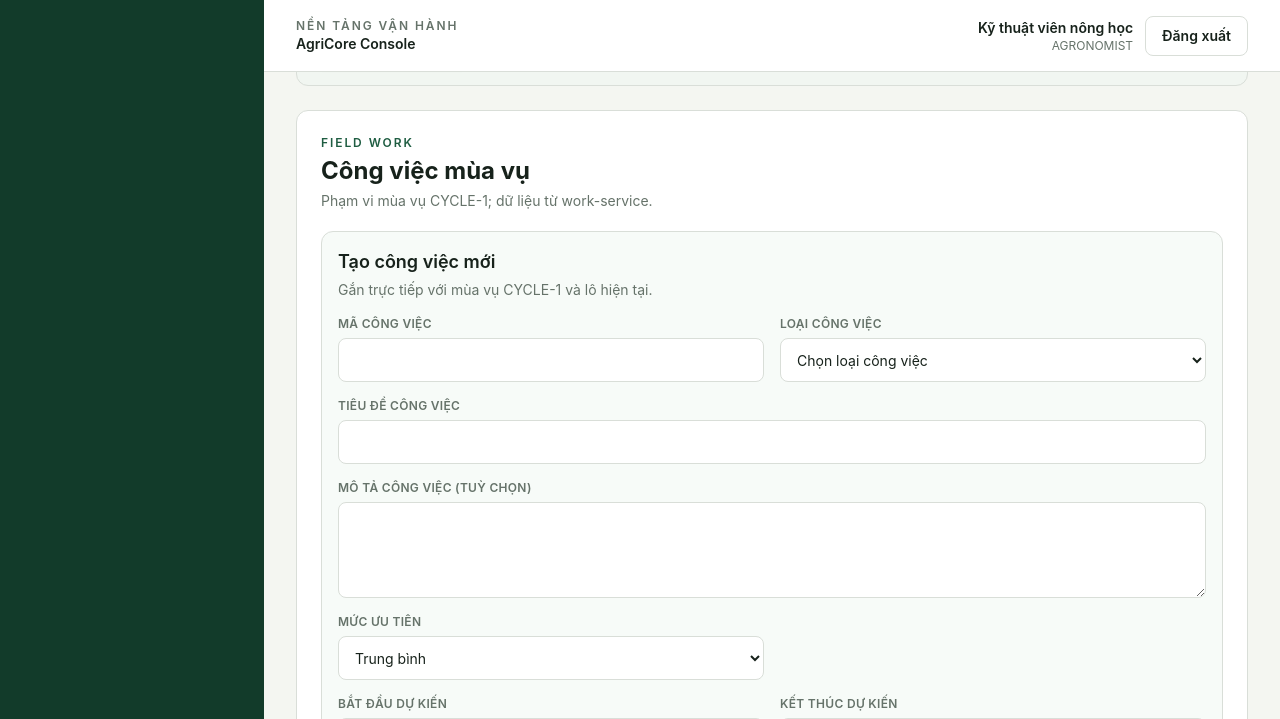
Scenario: work-task creation access loss › removes the local success message when list revalidation loses access
The width and height of the screenshot is (1280, 719).
(page scrolled)
Type "TASK-ACCESS-LOSS" into the field labelled "Mã công việc".
click(551, 360); type("TASK-ACCESS-LOSS")  # box [338,338,764,382]
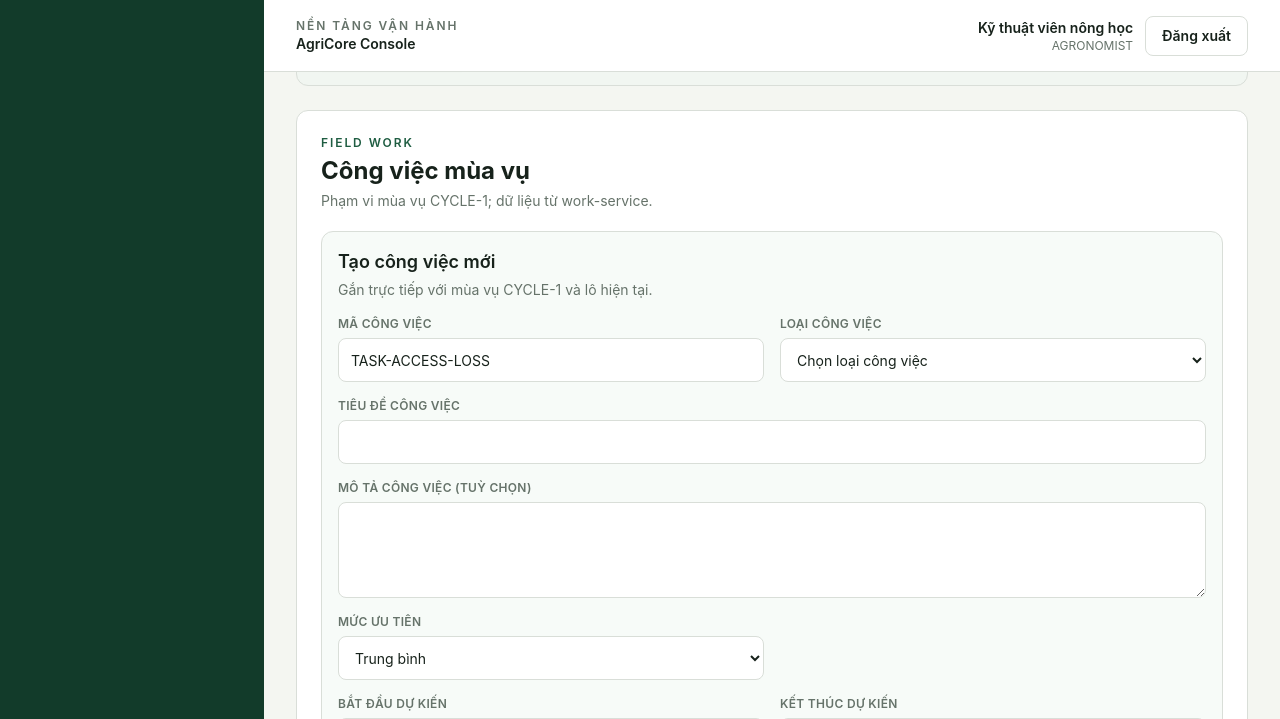
Select "Gieo trồng" in the dropdown labelled "Loại công việc" at (993, 360), box [780,338,1206,382]
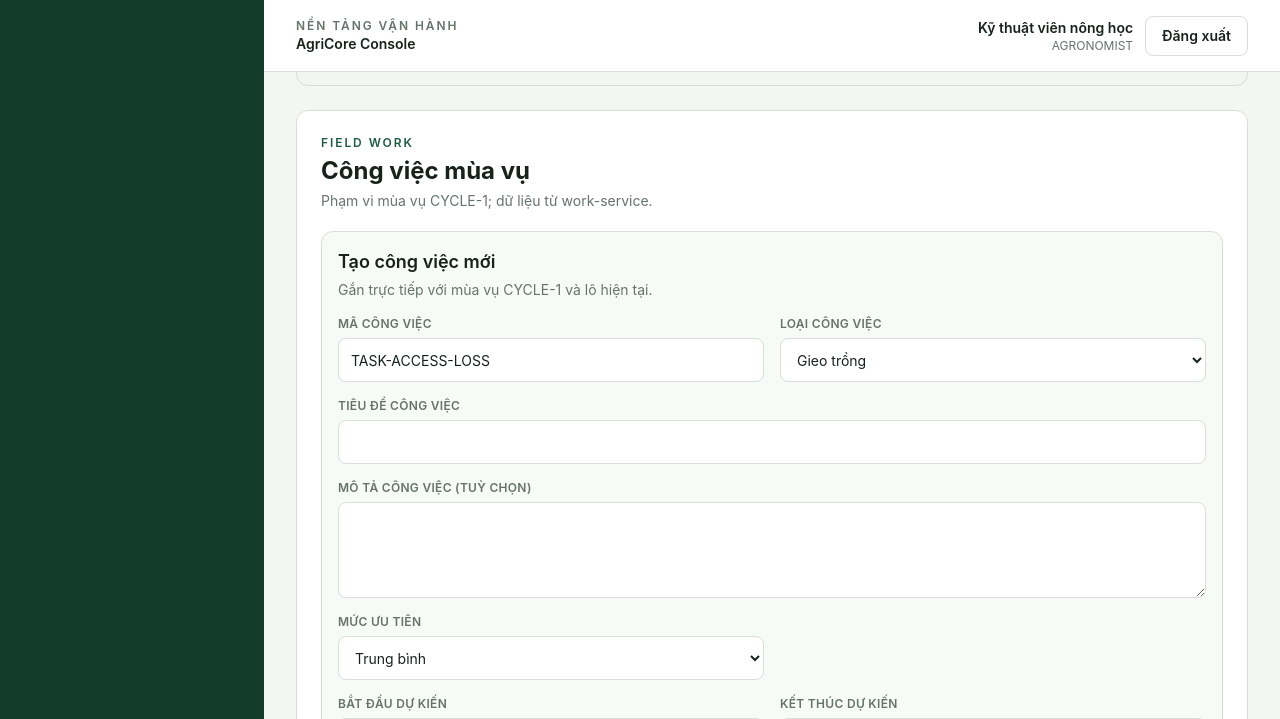
Type "Gieo trước khi mất quyền" into the field labelled "Tiêu đề công việc".
click(772, 442); type("Gieo trước khi mất quyền")  # box [338,420,1206,464]
(page scrolled)
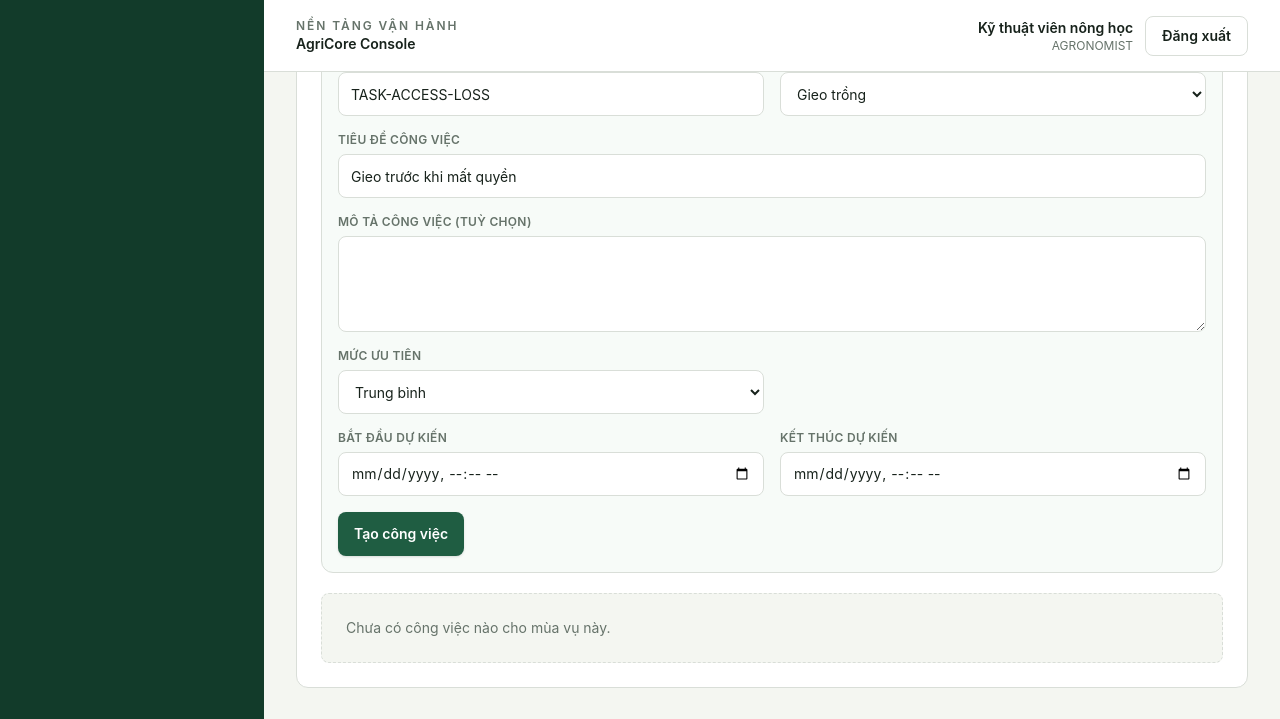
Click the button "Tạo công việc".
click(401, 534)  # box [338,512,464,556]
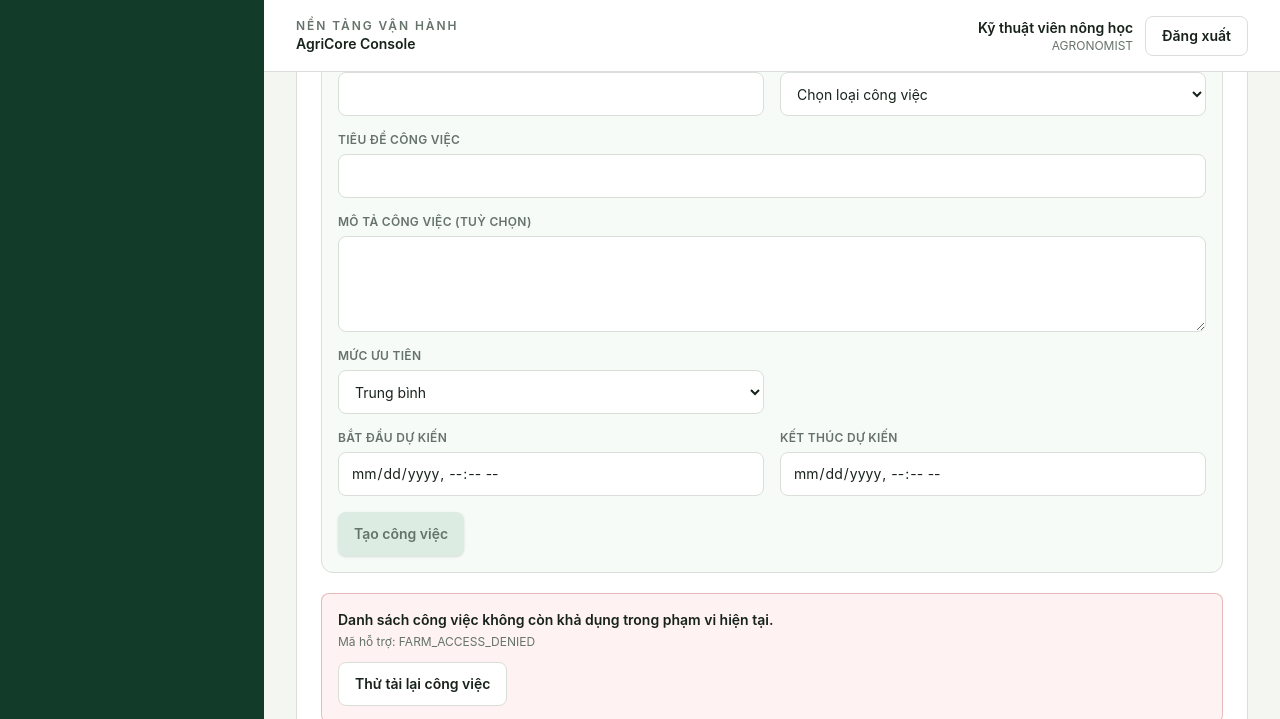
Expected: the text "TASK-ACCESS-LOSS" is not shown
Now the message named "Không thể tải công việc" shows "FARM_ACCESS_DENIED", box [399,634,535,649]
Click the button "Thử tải lại công việc".
click(423, 684)  # box [338,662,507,706]
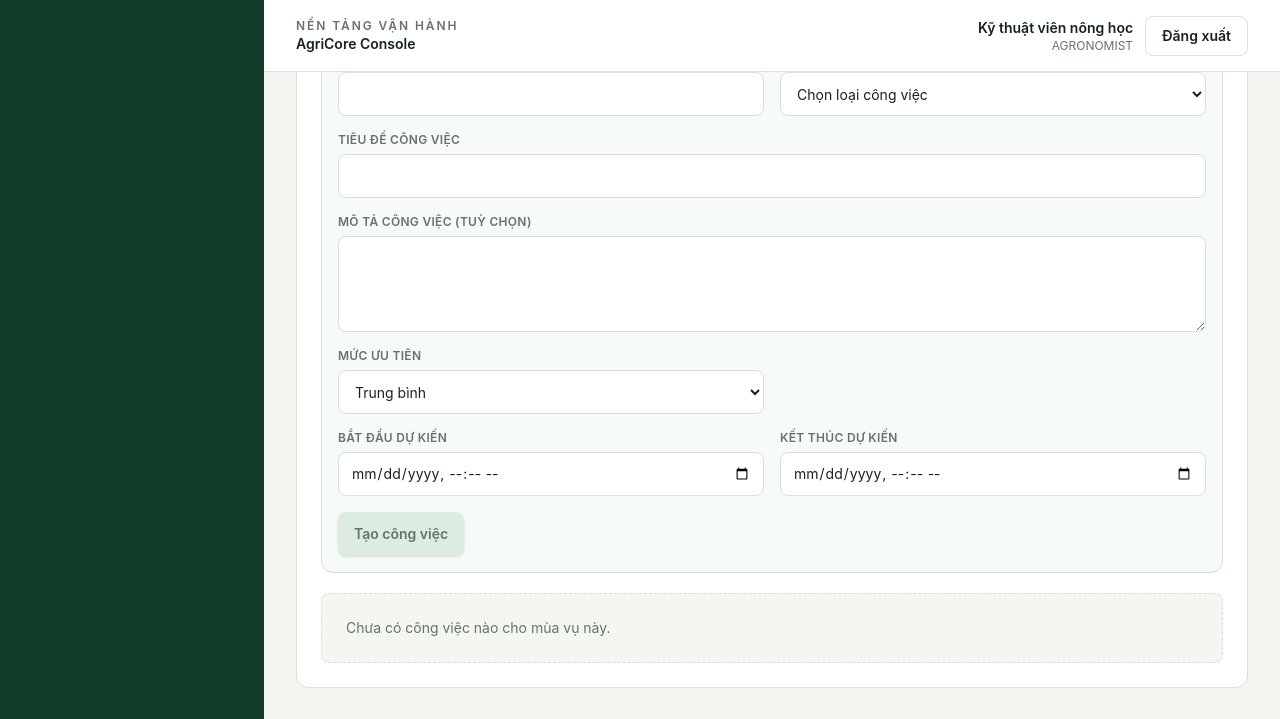
Expected: the text "TASK-ACCESS-LOSS" is not shown
Now the text "Chưa có công việc nào cho mùa vụ này." is shown, box [321,593,1223,663]
